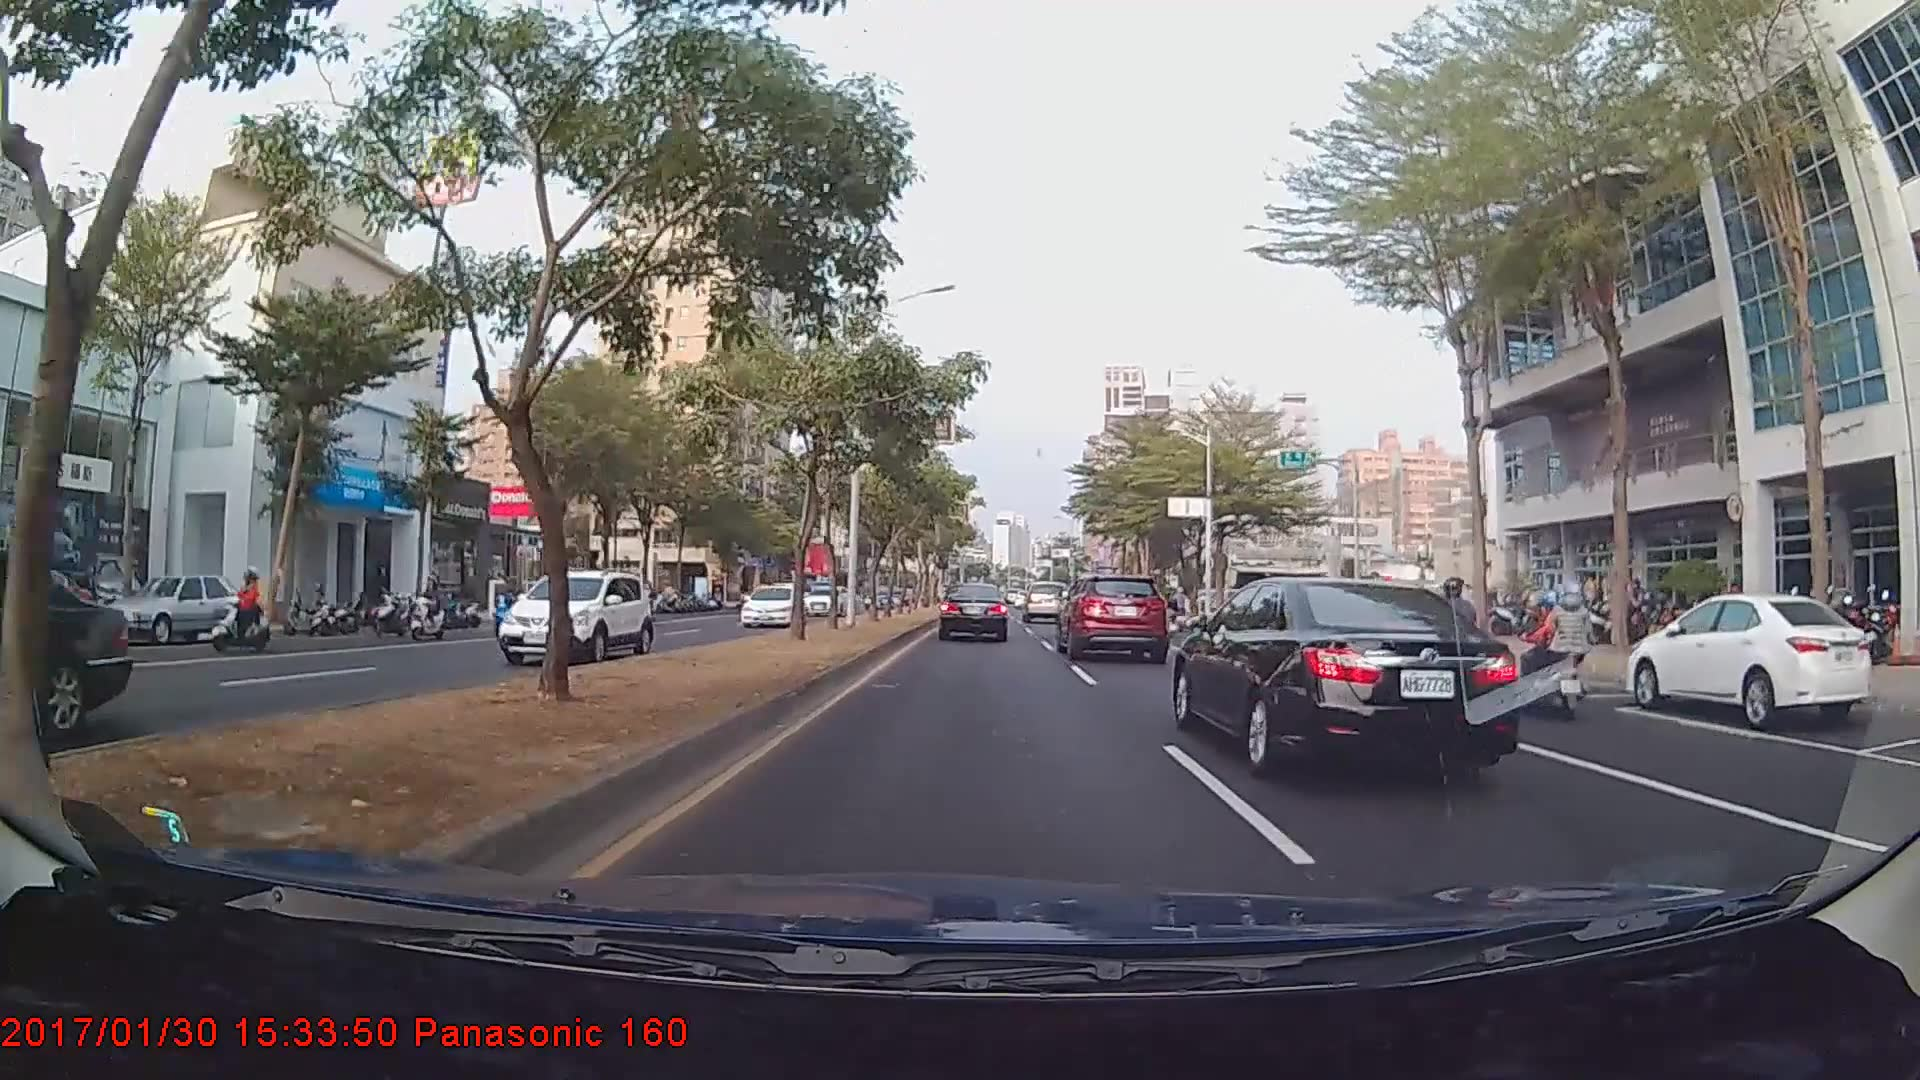rider: (1496, 578, 1599, 726), (1393, 572, 1480, 724), (201, 564, 275, 656)
vehicle: (1170, 565, 1511, 782), (1634, 590, 1873, 730), (0, 540, 132, 753), (492, 567, 655, 668), (97, 574, 256, 648), (1060, 573, 1167, 660), (938, 582, 1010, 643), (739, 585, 806, 629), (799, 586, 853, 617), (1022, 581, 1062, 623)
